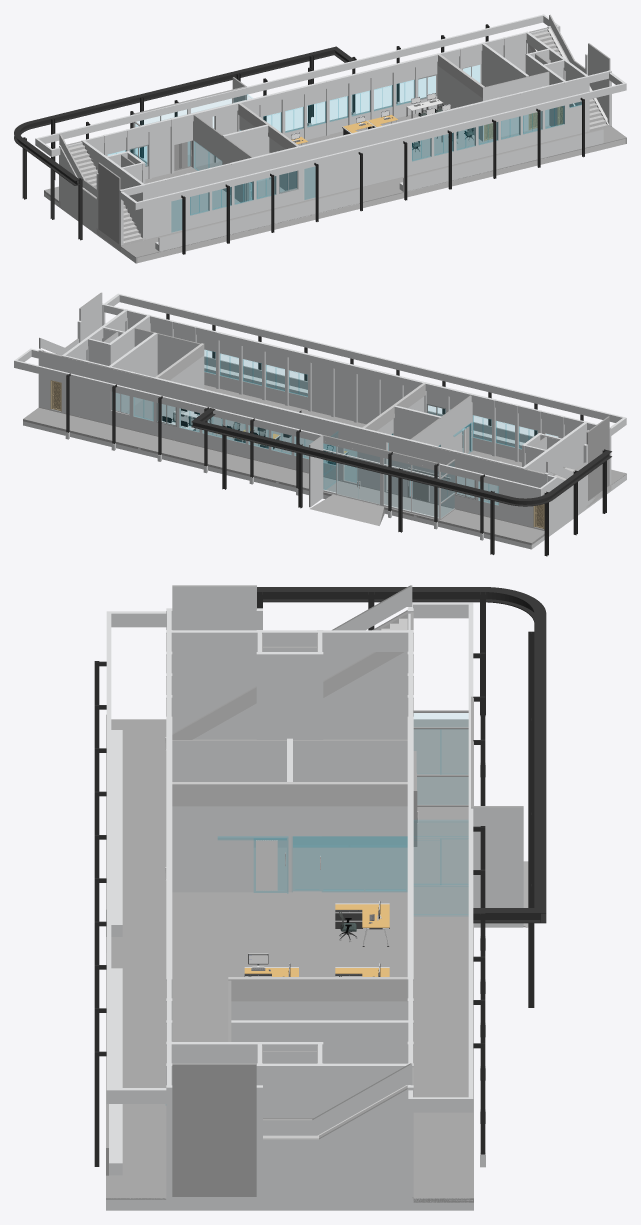
3 views of the same model, one above another, from view 1: azimuth 30°, elevation 25°; view 2: azimuth 150°, elevation 25°; view 3: azimuth 270°, elevation 25° (orthographic). The views are drawn at different scales.
Parts seen in each view (by area): view 1: EN1100199, EN1100104, EN1100102, EN1100101, EN1100105, EN1100103, EN1100106, EN1100108, EN1100107, EN1100109; view 2: EN1100199, EN1100104, EN1100102, EN1100101, EN1100105, EN1100106, EN1100108, EN1100107, EN1100103, EN1100109; view 3: EN1100199, EN1100104, EN1100102, EN1100107, EN1100108, EN1100103, EN1100105, EN1100101, EN1100106.
Boxes of the visible parts, x1,y1,x2,y2 form: EN1100199: (14,14,626,263); EN1100104: (237,54,567,202); EN1100102: (84,113,256,236); EN1100101: (59,134,145,250); EN1100105: (438,43,527,141); EN1100103: (193,102,270,183); EN1100106: (481,32,563,129); EN1100108: (222,125,300,212); EN1100107: (526,14,611,131); EN1100109: (540,60,587,136); EN1100199: (14,293,626,556); EN1100104: (134,315,426,486); EN1100102: (407,394,584,525); EN1100101: (521,416,611,530); EN1100105: (109,333,204,435); EN1100106: (62,327,156,424); EN1100108: (392,382,472,453); EN1100107: (38,292,126,412); EN1100103: (362,405,441,497); EN1100109: (102,310,149,352); EN1100199: (94,585,546,1210); EN1100104: (165,784,413,1063); EN1100102: (165,632,418,847); EN1100107: (166,1063,413,1196); EN1100108: (166,741,292,892); EN1100103: (287,738,413,890); EN1100105: (228,977,413,1063); EN1100101: (166,585,413,739); EN1100106: (228,1020,412,1063).
Size of what is drawn, in the model's own units: 40.07 by 5.35 by 14.97.
